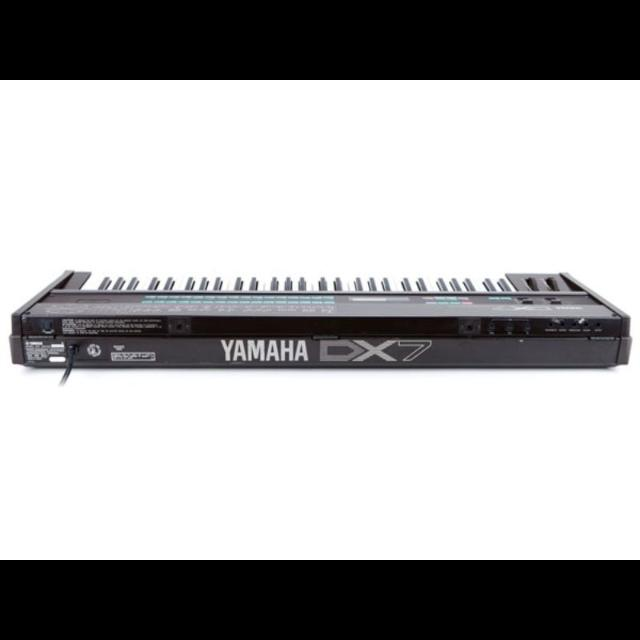Electronic-Keyboard: (14, 254, 630, 378)
